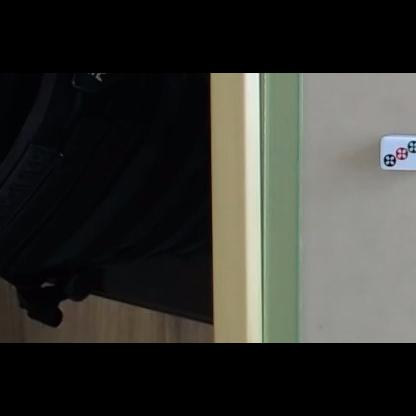3p: (382, 140, 416, 167)
